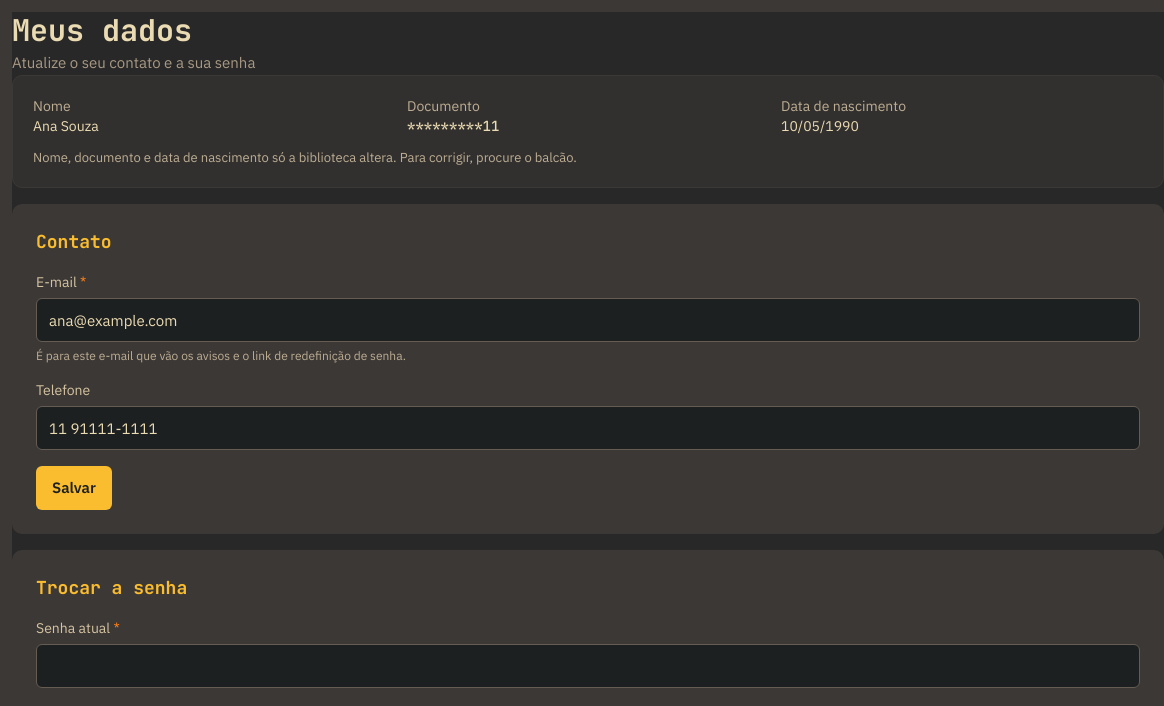
Test case: meus dados › salva só o telefone sem pedir a senha e sem mandar o e-mail
Replace the text in the field labelled "Telefone" with "21988887777" at [588, 428], box [36, 406, 1140, 450]
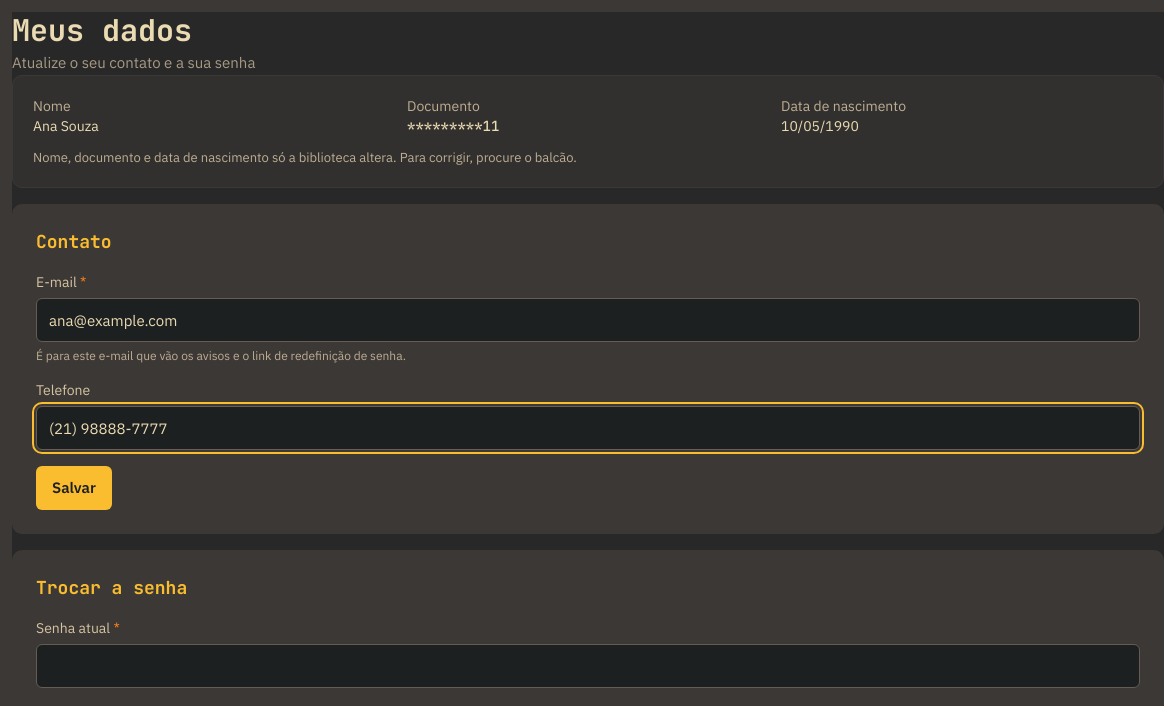
Click the button "Salvar" at [74, 488], box [36, 466, 112, 510]
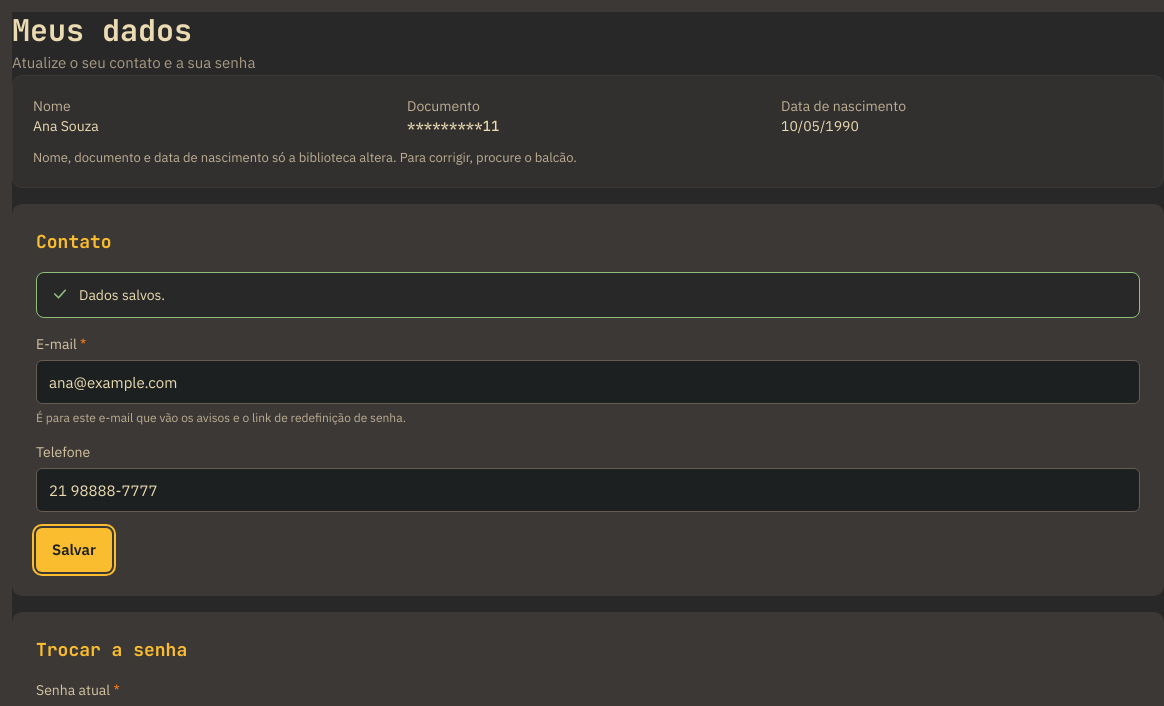
Expected: the text "Dados salvos." is shown, [79, 285, 165, 305]
